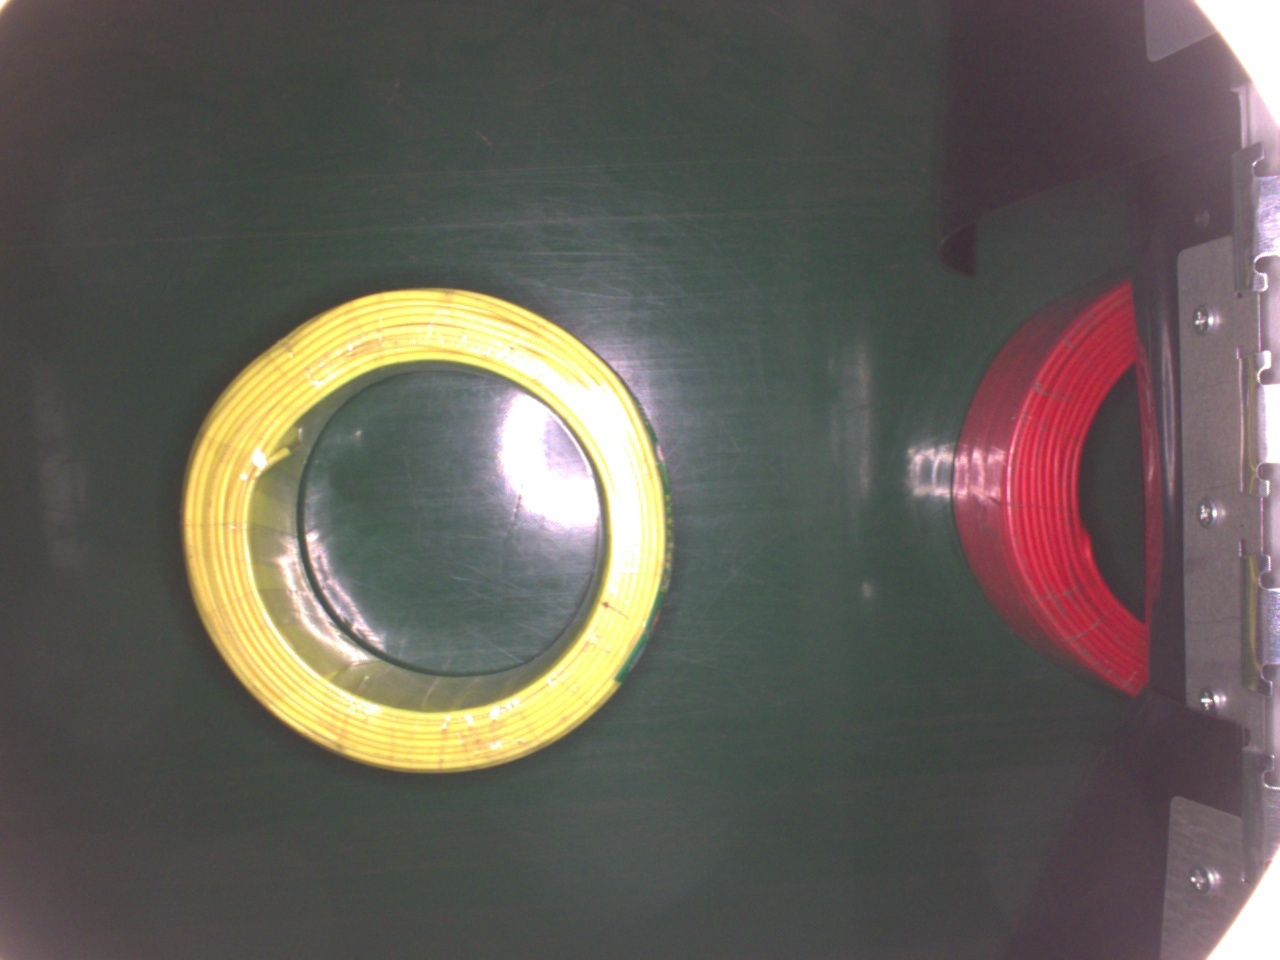red: (949, 282, 1152, 698)
yellow: (179, 285, 663, 779)
